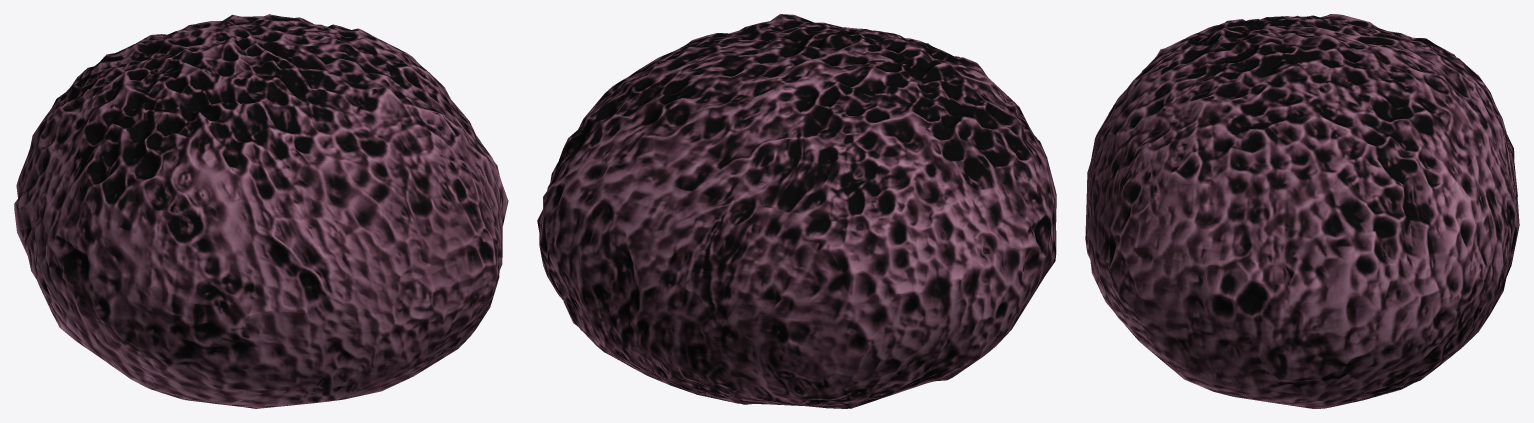
File: SM_Coral_PoritedaePink.fbx
3 views of the same model, side by side, from view 1: azimuth 30°, elevation 25°; view 2: azimuth 150°, elevation 25°; view 3: azimuth 270°, elevation 25° (orthographic). The views are drawn at different scales.
Visible parts, largest first — view 1: SM_Coral_PoritedaePink_LOD0; view 2: SM_Coral_PoritedaePink_LOD0; view 3: SM_Coral_PoritedaePink_LOD0.
Part boxes in pixels (x1,y1,x2,y2): SM_Coral_PoritedaePink_LOD0: (14, 14, 508, 408); SM_Coral_PoritedaePink_LOD0: (537, 14, 1056, 408); SM_Coral_PoritedaePink_LOD0: (1085, 14, 1519, 408).
Bounding box in the file's own units: 136 × 126 × 101.
